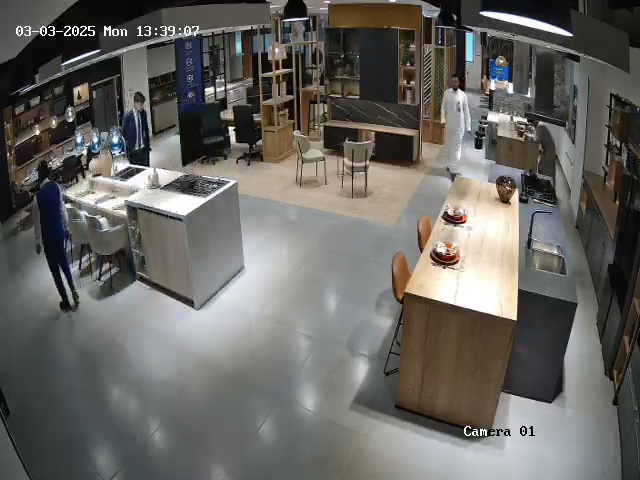employee: (35, 181, 80, 310), (122, 92, 151, 167)
male: (440, 73, 471, 175), (527, 108, 562, 188)
